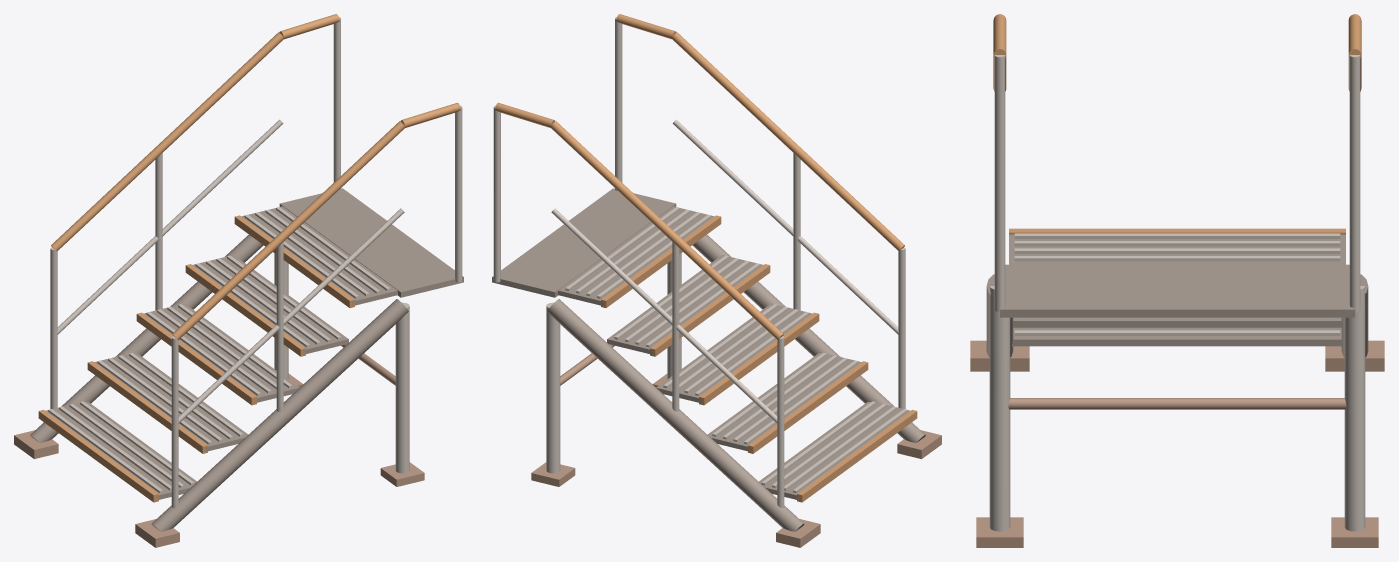
Rendered from P07_stairs_5steps.glb.
The picture shows the model from 3 angles, left to right: view 1: azimuth 30°, elevation 25°; view 2: azimuth 150°, elevation 25°; view 3: azimuth 270°, elevation 25°; orthographic projection. The views are drawn at different scales.
Parts seen in each view (by area): view 1: tread_grate (×20), tread (×5), stringer (×2), rail_post (×6), top_landing, tread_nosing (×5), handrail (×4), mid_rail (×2), support_post (×2), foot_plate (×3); view 2: tread_grate (×20), tread (×5), stringer (×2), rail_post (×6), top_landing, tread_nosing (×5), handrail (×4), mid_rail (×2), support_post (×2), foot_plate (×3); view 3: top_landing, tread (×3), tread_grate (×6), support_post (×2), rail_post (×2), foot_plate (×4), cross_tie, tread_nosing, handrail (×2), stringer (×2).
Boxes of the visible parts, x1,y1,x2,y2 form: tread_grate (×20): [48, 207, 390, 493]; tread (×5): [45, 206, 397, 499]; stringer (×2): [30, 235, 408, 531]; rail_post (×6): [50, 17, 462, 507]; top_landing: [279, 188, 463, 297]; tread_nosing (×5): [38, 215, 354, 502]; handrail (×4): [51, 14, 460, 340]; mid_rail (×2): [57, 119, 404, 423]; support_post (×2): [274, 253, 409, 473]; foot_plate (×3): [14, 430, 424, 547]; tread_grate (×20): [565, 207, 907, 493]; tread (×5): [558, 206, 910, 499]; stringer (×2): [547, 235, 925, 531]; rail_post (×6): [493, 17, 905, 507]; top_landing: [492, 188, 676, 297]; tread_nosing (×5): [601, 215, 917, 502]; handrail (×4): [495, 14, 904, 340]; mid_rail (×2): [551, 119, 898, 423]; support_post (×2): [546, 253, 681, 473]; foot_plate (×3): [531, 430, 941, 547]; top_landing: [1000, 264, 1354, 317]; tread (×3): [1009, 234, 1345, 346]; tread_grate (×6): [1014, 233, 1340, 335]; support_post (×2): [989, 286, 1365, 531]; rail_post (×2): [994, 55, 1360, 311]; foot_plate (×4): [970, 340, 1384, 547]; cross_tie: [1008, 398, 1346, 409]; tread_nosing: [1009, 228, 1345, 234]; handrail (×2): [993, 14, 1361, 57]; stringer (×2): [986, 274, 1368, 357].
Size of the model in its own units: 1.82 by 1.97 by 1.4.
